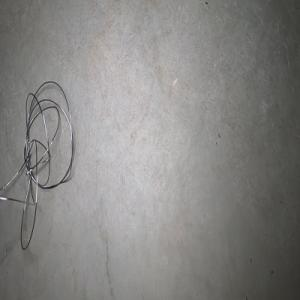Wire: (0, 81, 73, 250)
